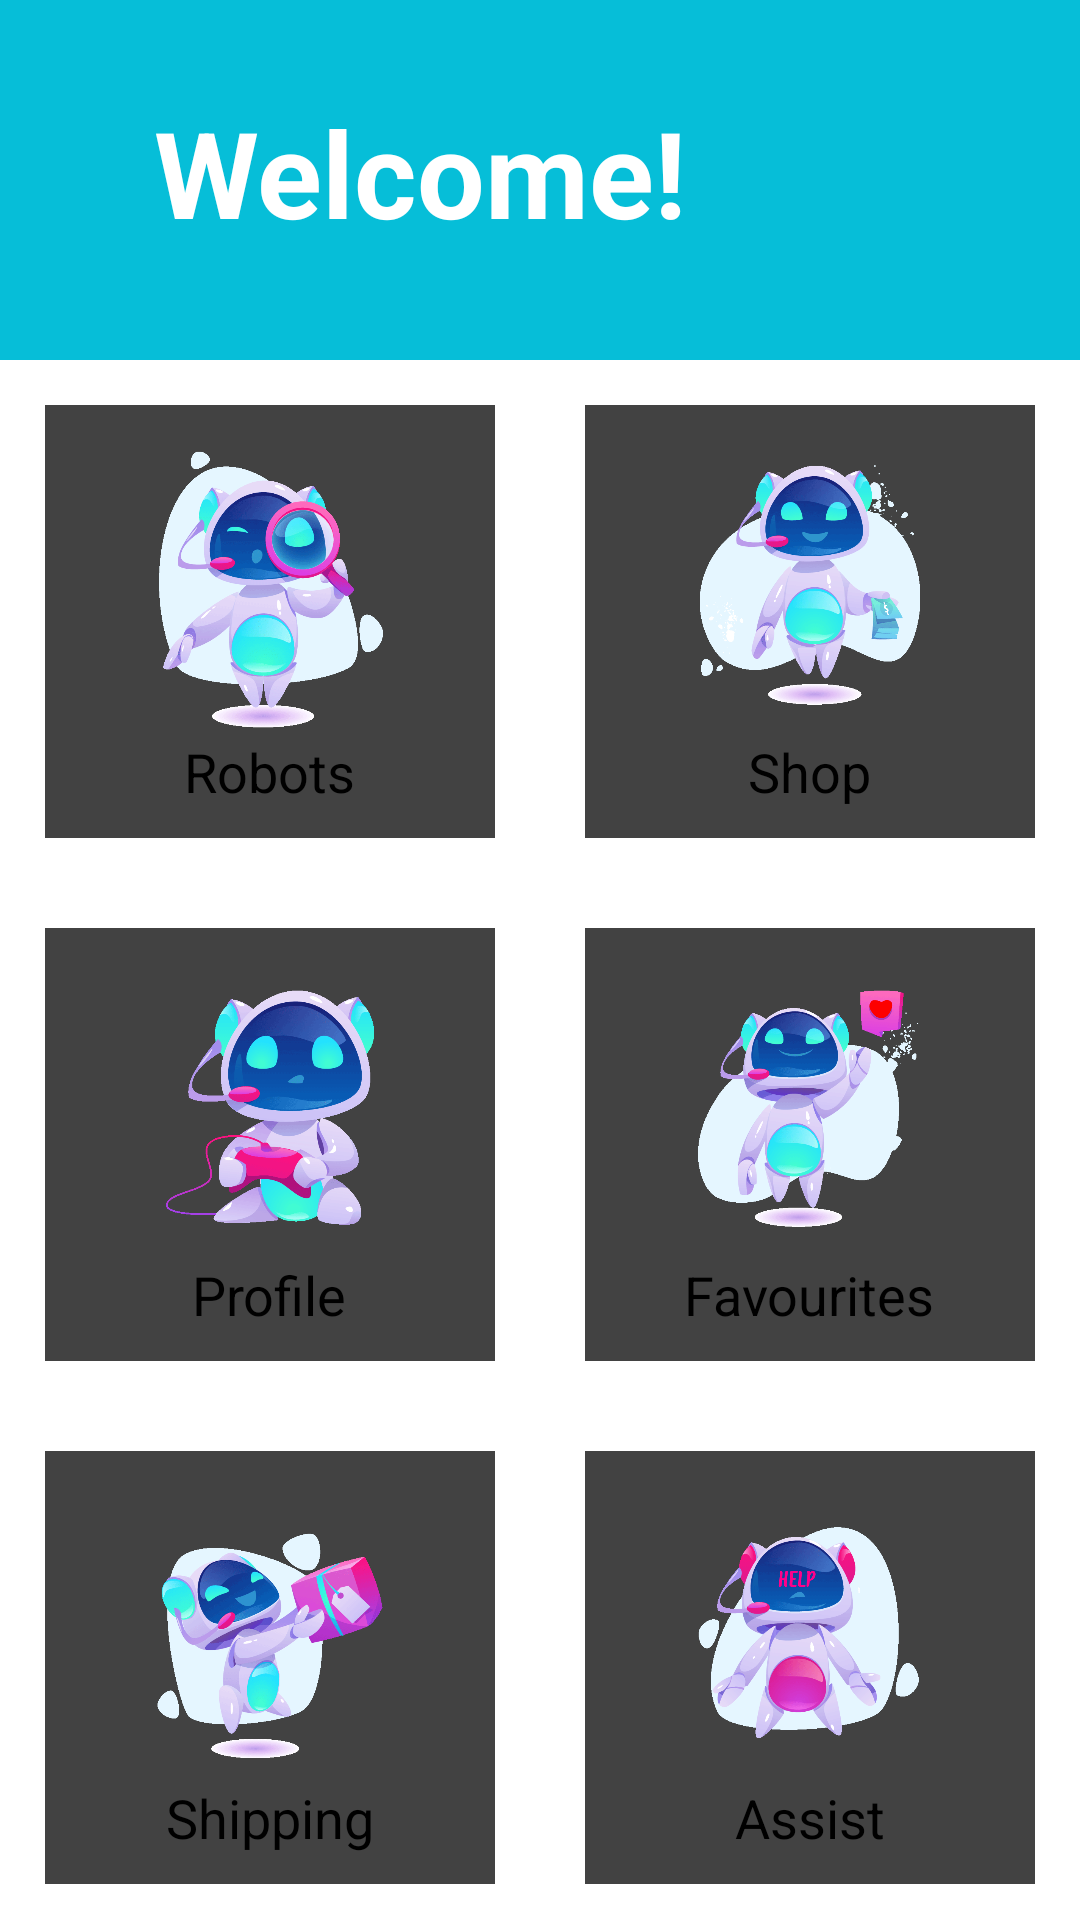

Screen size 1080*1920. Icon name, then its center in pixels as (x,y):
buscar: (271,590)
